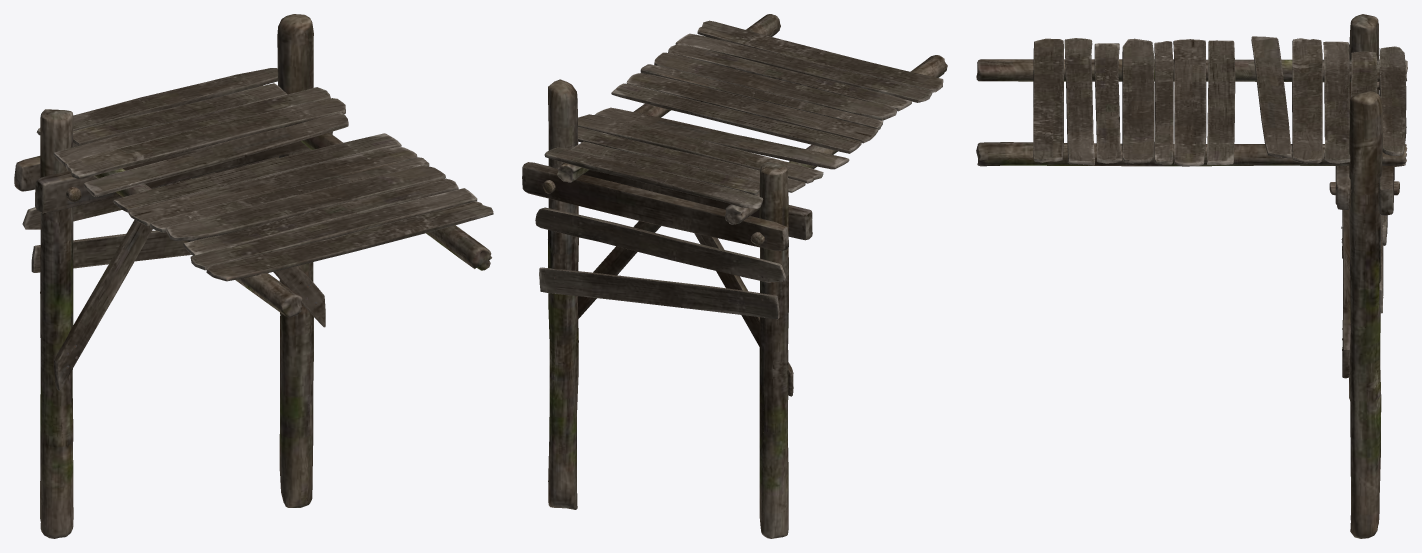
The model's file is pier_c.glb.
The picture shows the model from 3 angles, left to right: view 1: azimuth 30°, elevation 25°; view 2: azimuth 150°, elevation 25°; view 3: azimuth 270°, elevation 25°; orthographic projection. The views are drawn at different scales.
Visible parts, largest first — view 1: modular_wooden_pier_section_03; view 2: modular_wooden_pier_section_03; view 3: modular_wooden_pier_section_03.
Boxes of the visible parts, left/top/right/bottom form: modular_wooden_pier_section_03: left=14, top=14, right=493, bottom=538; modular_wooden_pier_section_03: left=522, top=14, right=947, bottom=538; modular_wooden_pier_section_03: left=976, top=14, right=1407, bottom=538.
Size of the model in its own units: 2.51 by 3.84 by 3.39.
2 materials, 2 textured.
